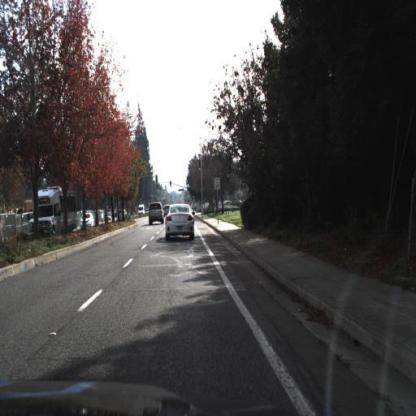car: (165, 201, 200, 247), (79, 208, 98, 235), (148, 203, 166, 230), (162, 204, 173, 217)
trafficLight-Green: (170, 179, 174, 189)
trafficLight-RedLeft: (156, 180, 160, 188)
truck: (26, 186, 82, 244), (139, 204, 147, 217)
